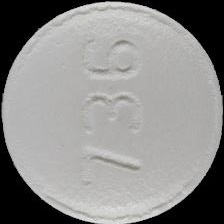61919-036: (0, 0, 224, 224)
